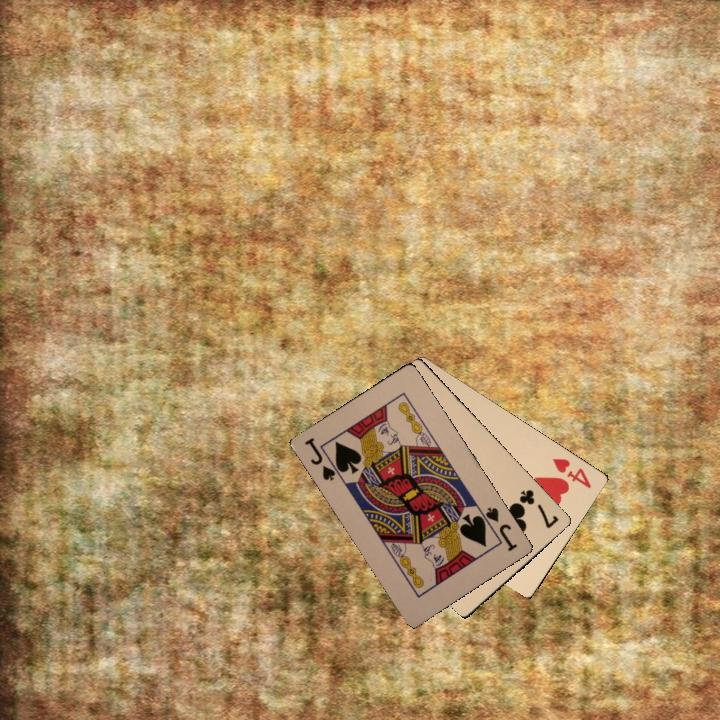4h: (549, 454, 594, 491)
7c: (515, 485, 561, 531)
Js: (300, 433, 344, 483), (477, 503, 520, 554)
